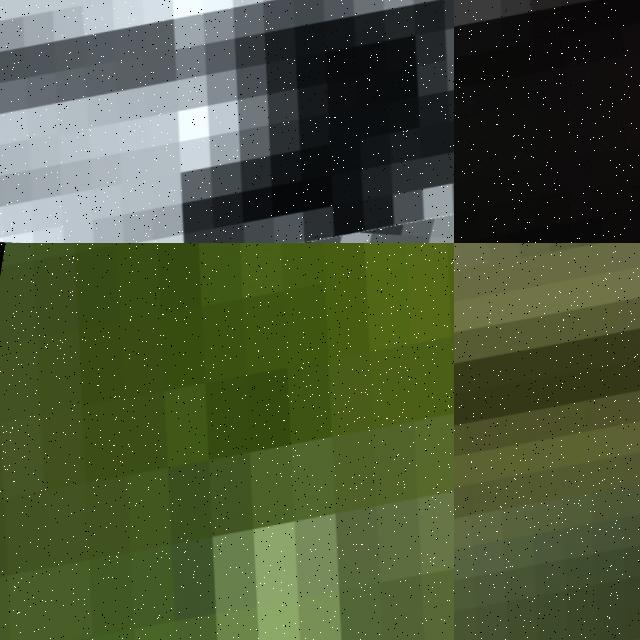drone: (0, 243, 454, 640), (0, 0, 454, 243), (454, 243, 640, 640), (454, 0, 640, 243)
